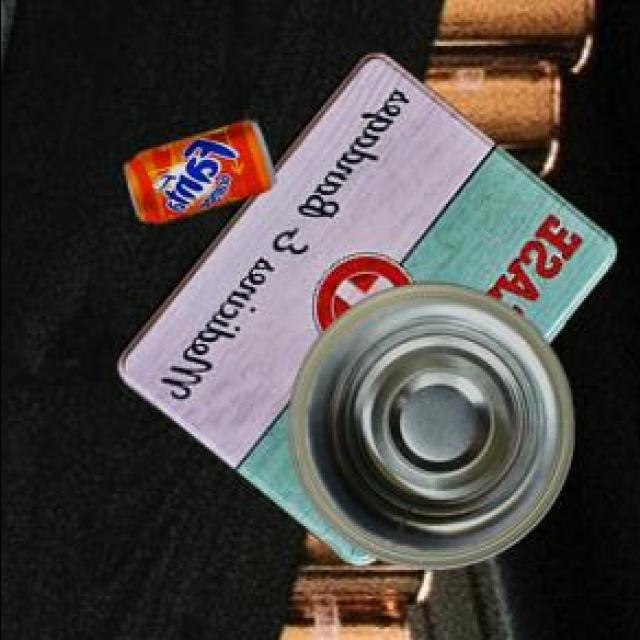logam: (119, 56, 619, 569), (290, 286, 575, 571), (128, 124, 279, 227)
